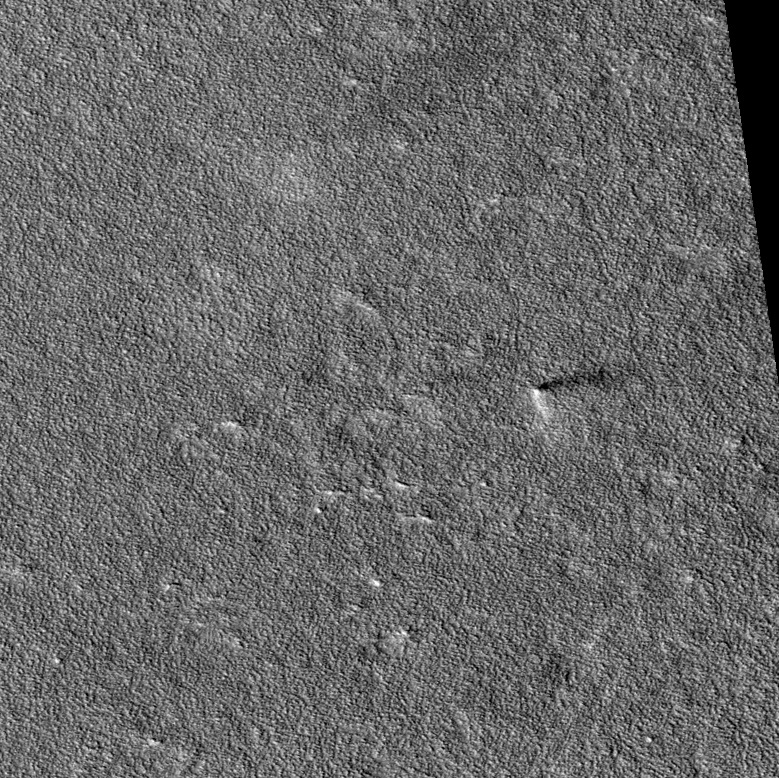dust_devil: (526, 365, 608, 416)
